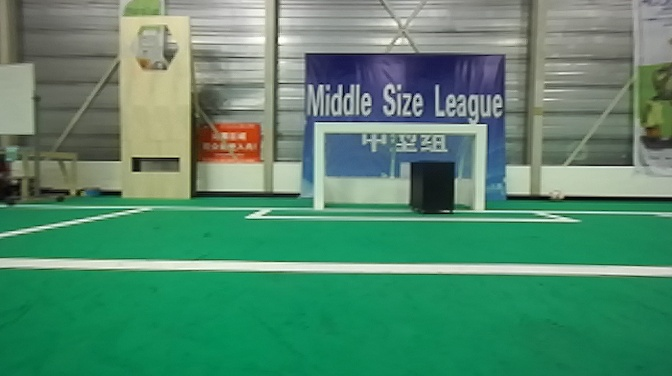ball: (543, 187, 566, 199)
goalpost: (470, 120, 489, 210), (313, 120, 328, 206)
